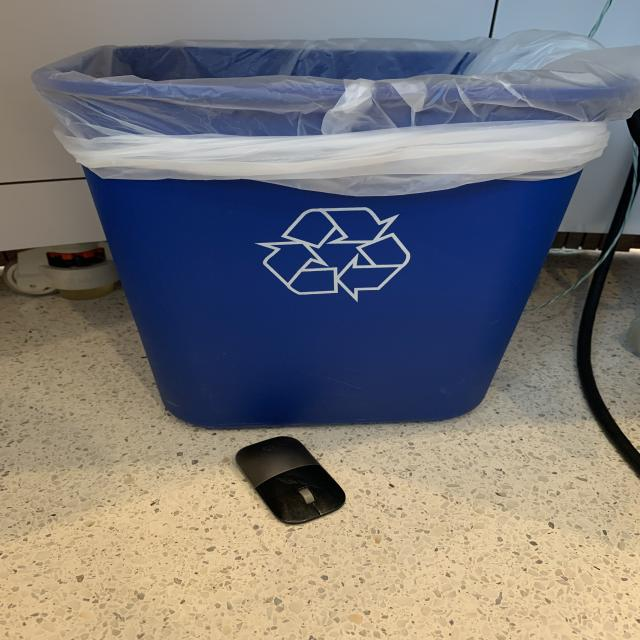Mouse: (234, 433, 353, 531)
